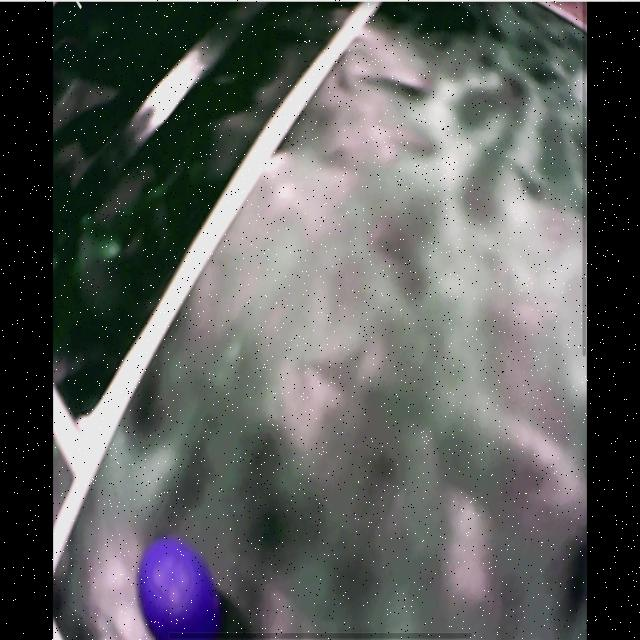ball: (139, 537, 215, 640)
